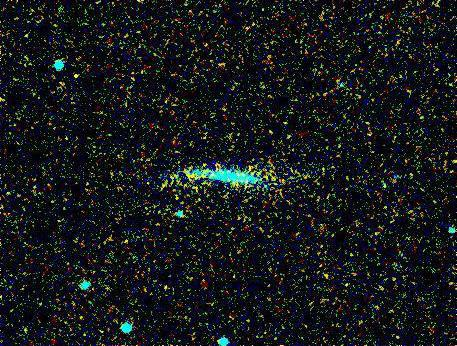star: (61, 60, 91, 90)
